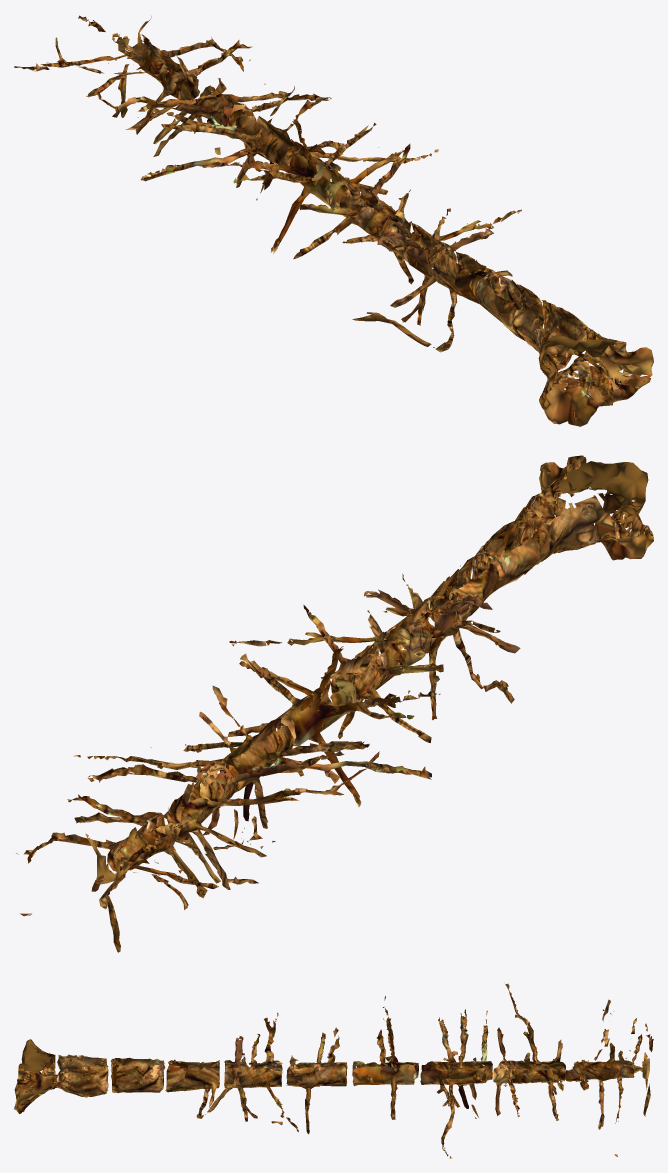
File: middleFork2.fbx
3 views of the same model, one above another, from view 1: azimuth 30°, elevation 25°; view 2: azimuth 150°, elevation 25°; view 3: azimuth 270°, elevation 25° (orthographic). The views are drawn at different scales.
Visible parts, largest first — view 1: Object.136; view 2: Object.136; view 3: Object.136.
Part boxes in pixels (x1,y1,x2,y2): Object.136: [14, 15, 653, 426]; Object.136: [16, 455, 653, 952]; Object.136: [14, 983, 653, 1158].
Size of the model in its own units: 929 by 414 by 2411.
